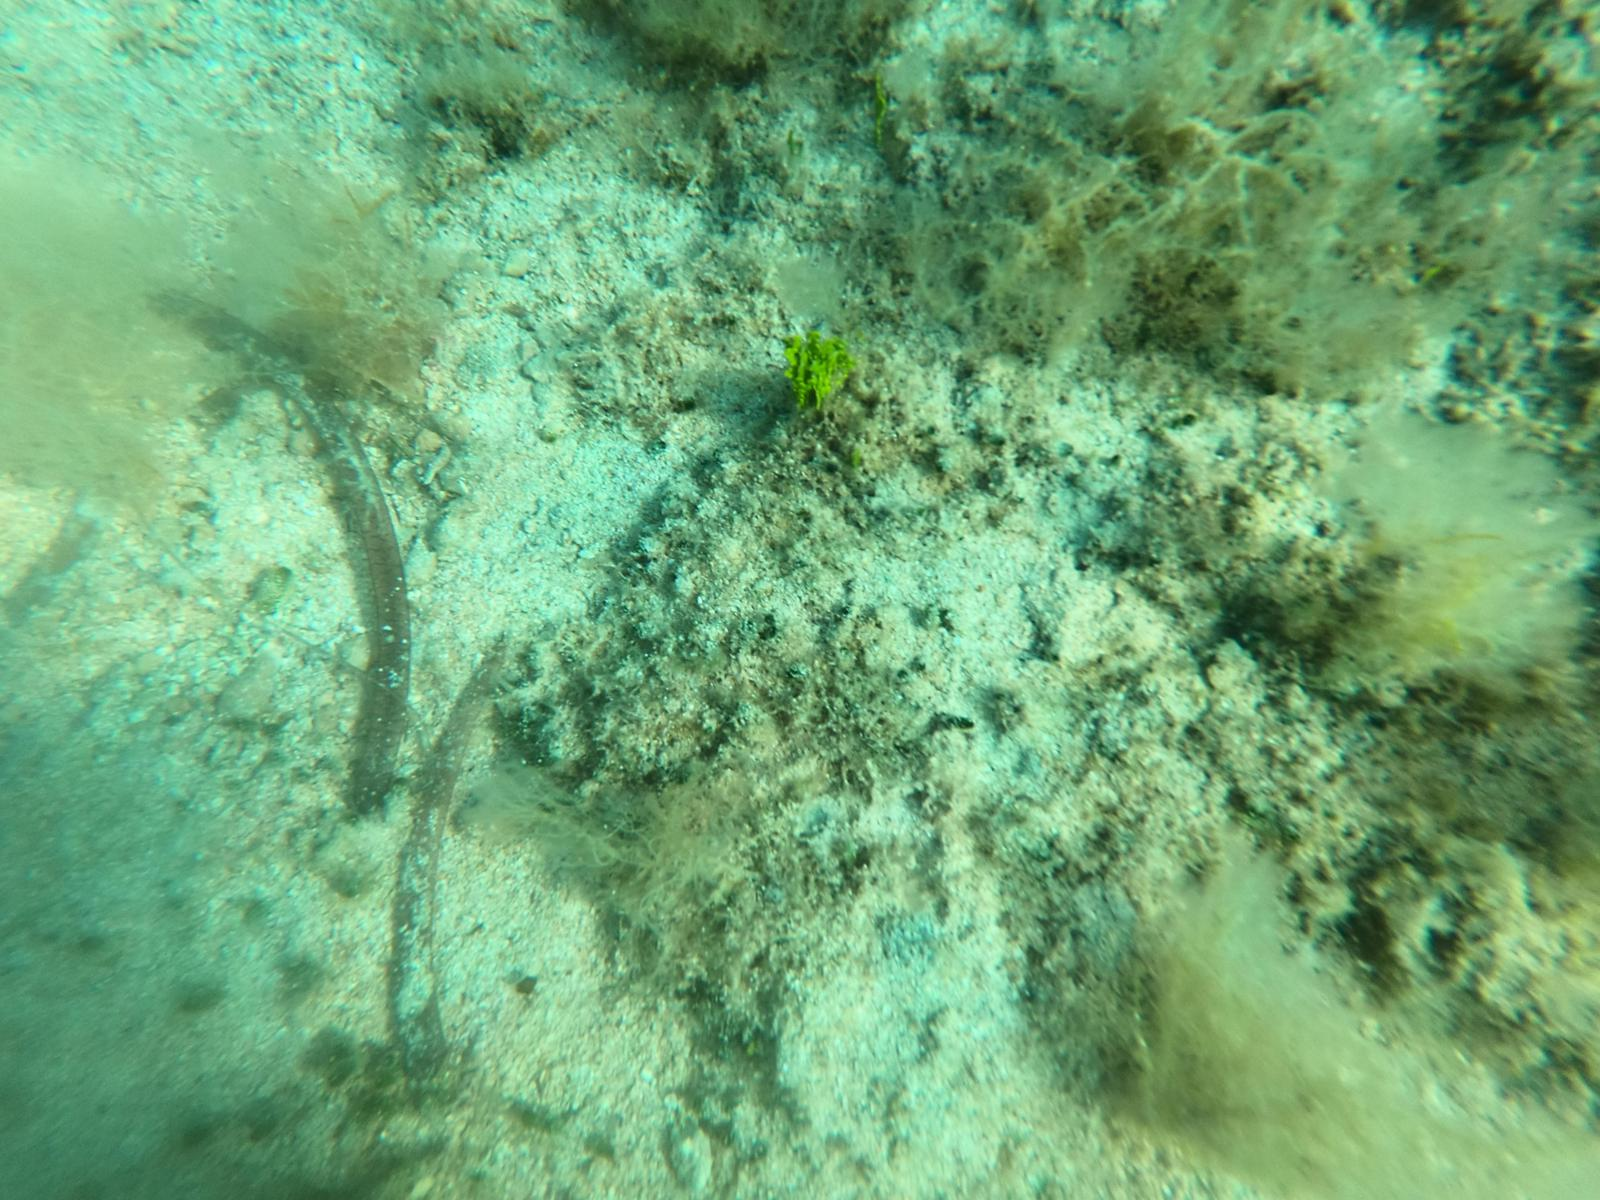halimeda: (784, 326, 857, 411)
